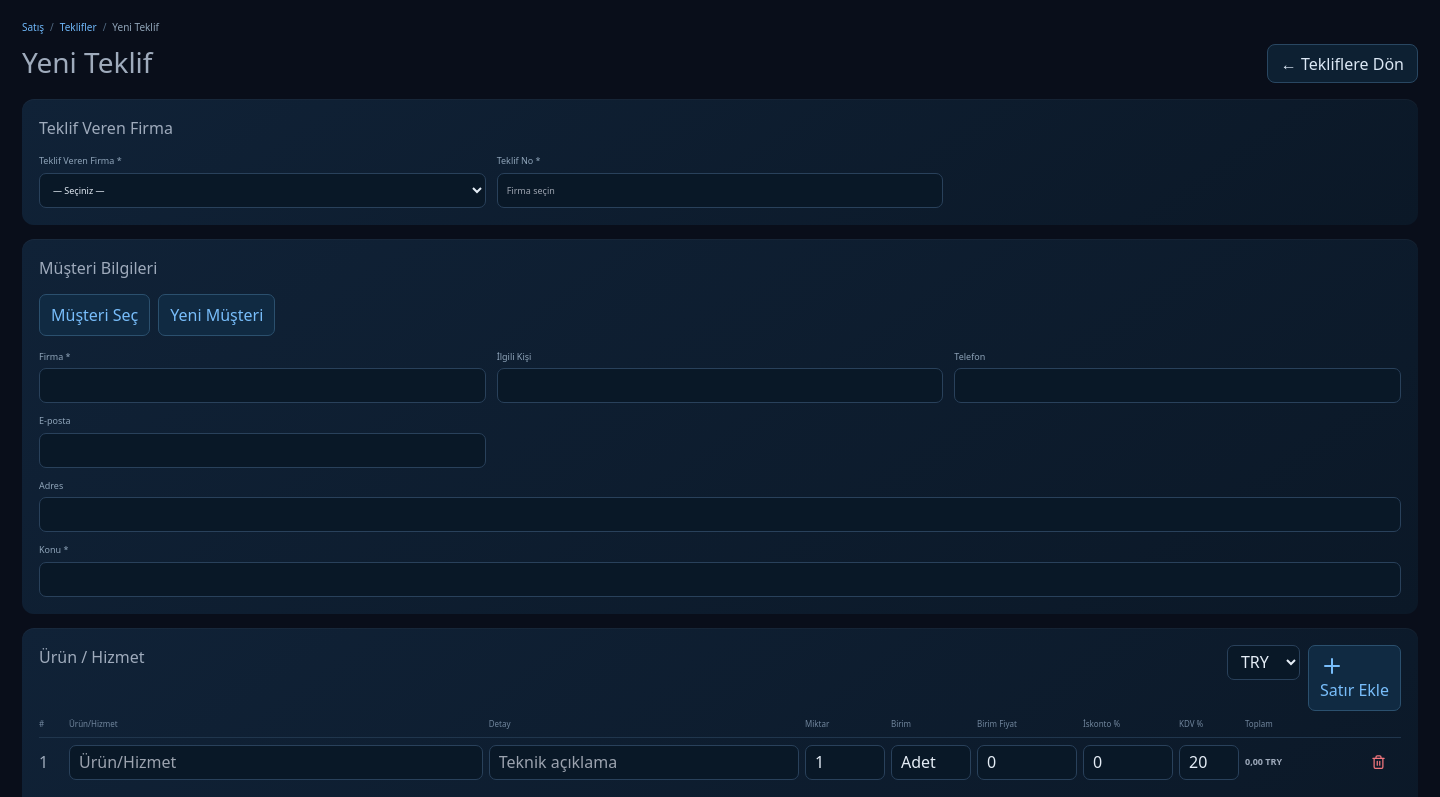
QuoteFormPage — save › translates a duplicate quote_no (unique-violation) error into a plain Turkish message
The width and height of the screenshot is (1440, 797).
Select "Dayan Dişli & Profil Taşlama" in the dropdown labelled "Teklif Veren Firma *" at (262,190), box 39,172 -> 486,208
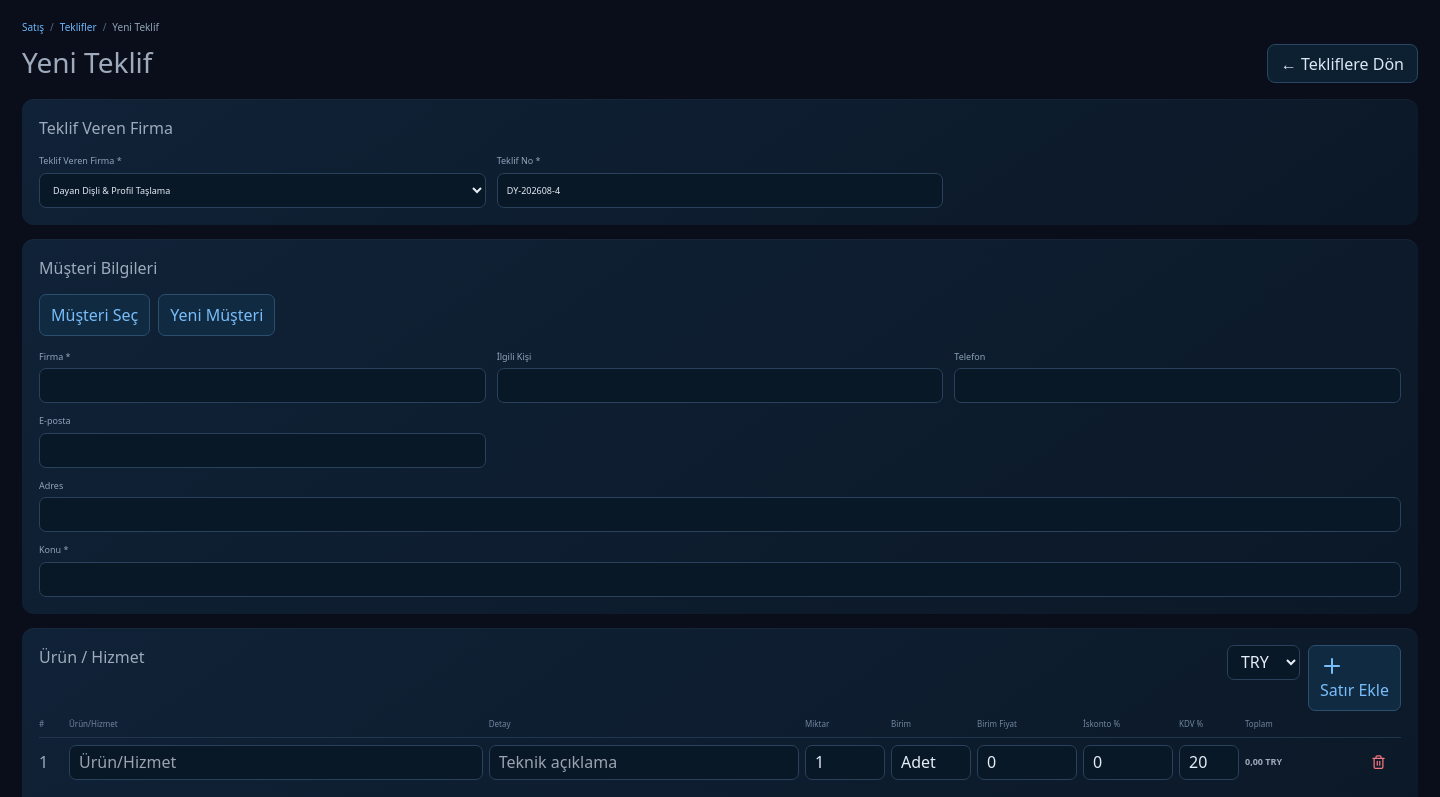
expect the field showing "DY-202608-4" is shown: met, box 497,172 -> 943,208
Click the button "Yeni Müşteri" at (217,314), box 158,294 -> 275,336
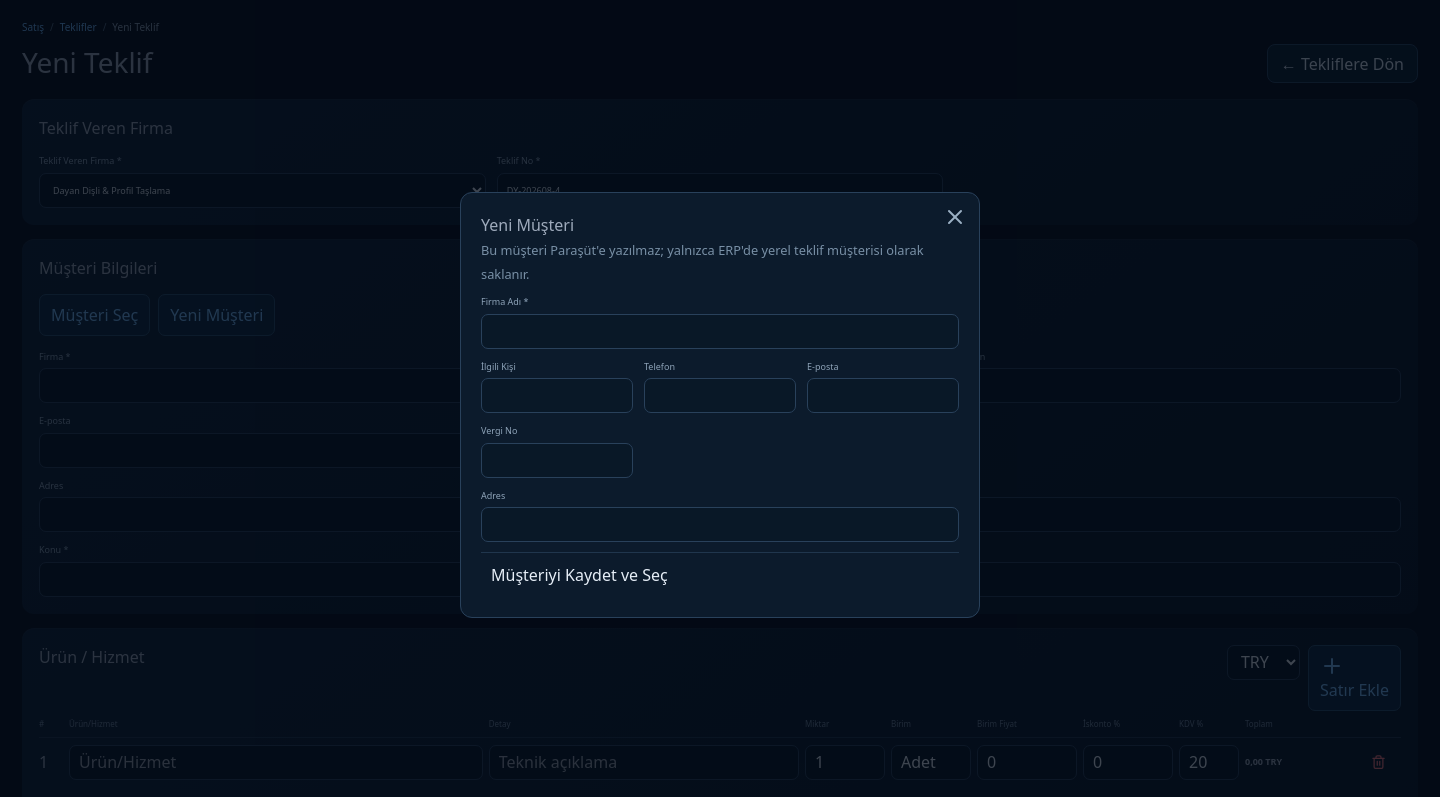
Type "Yeni Firma" into the field labelled "Firma Adı *" at (720,331), box 481,314 -> 959,348
Click the button "Müşteriyi Kaydet ve Seç" at (579,575), box 481,552 -> 959,597
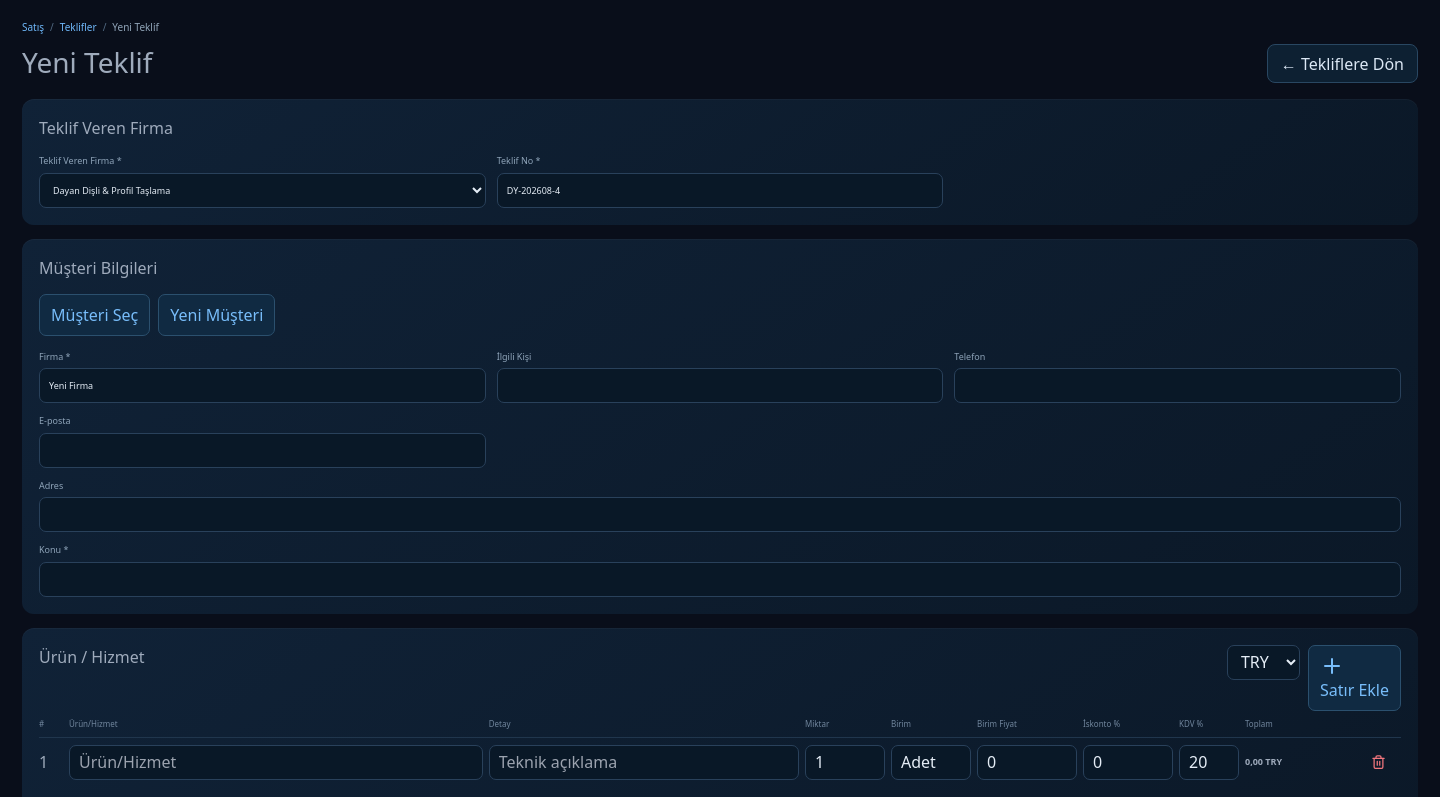
expect the field showing "Yeni Firma" is shown: met, box 39,368 -> 486,403
Type "Test Konu" into the field labelled "Konu *" at (720,579), box 39,562 -> 1401,596
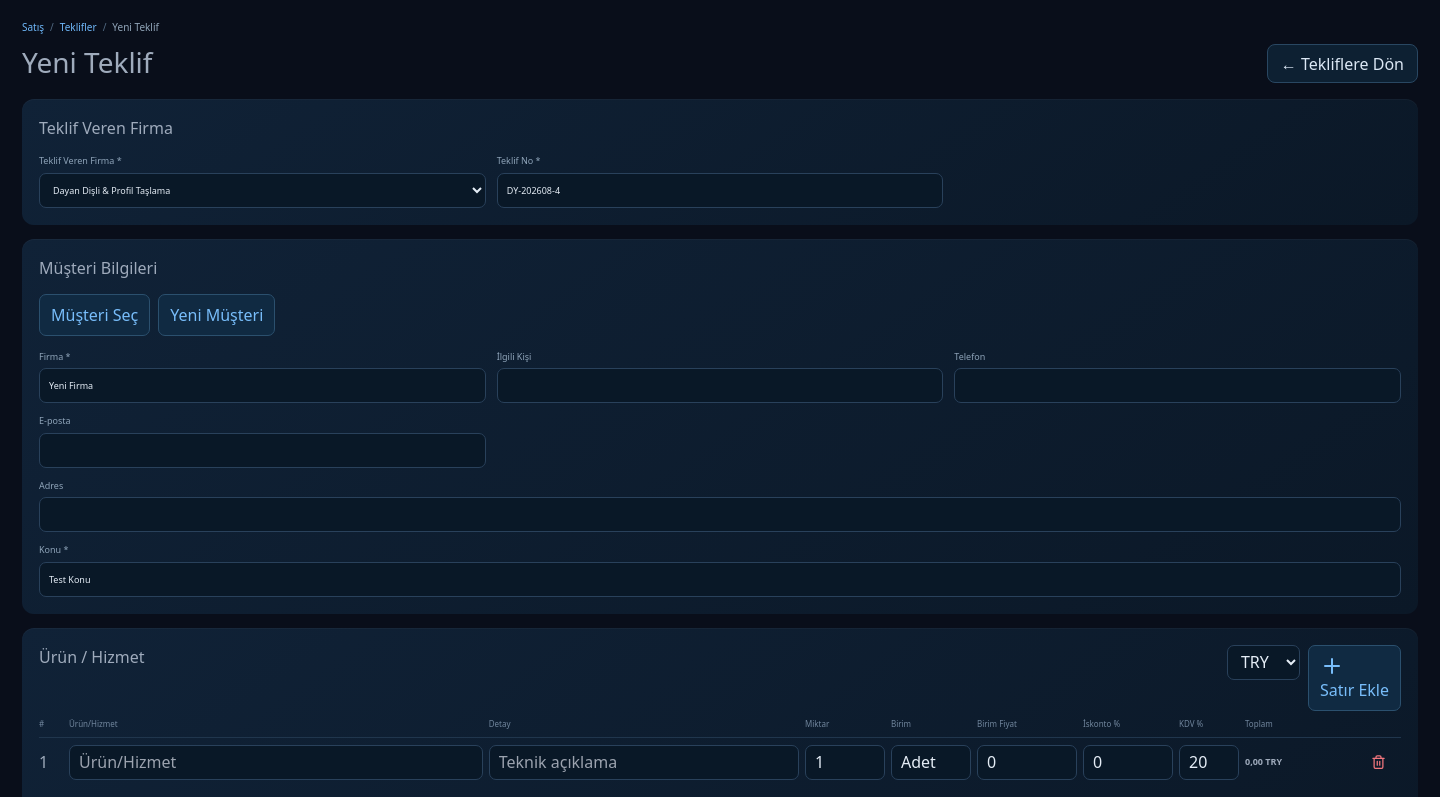
Type "Test Kalem" into the field with placeholder "Ürün/Hizmet" at (276,762), box 69,744 -> 483,780
(page scrolled)
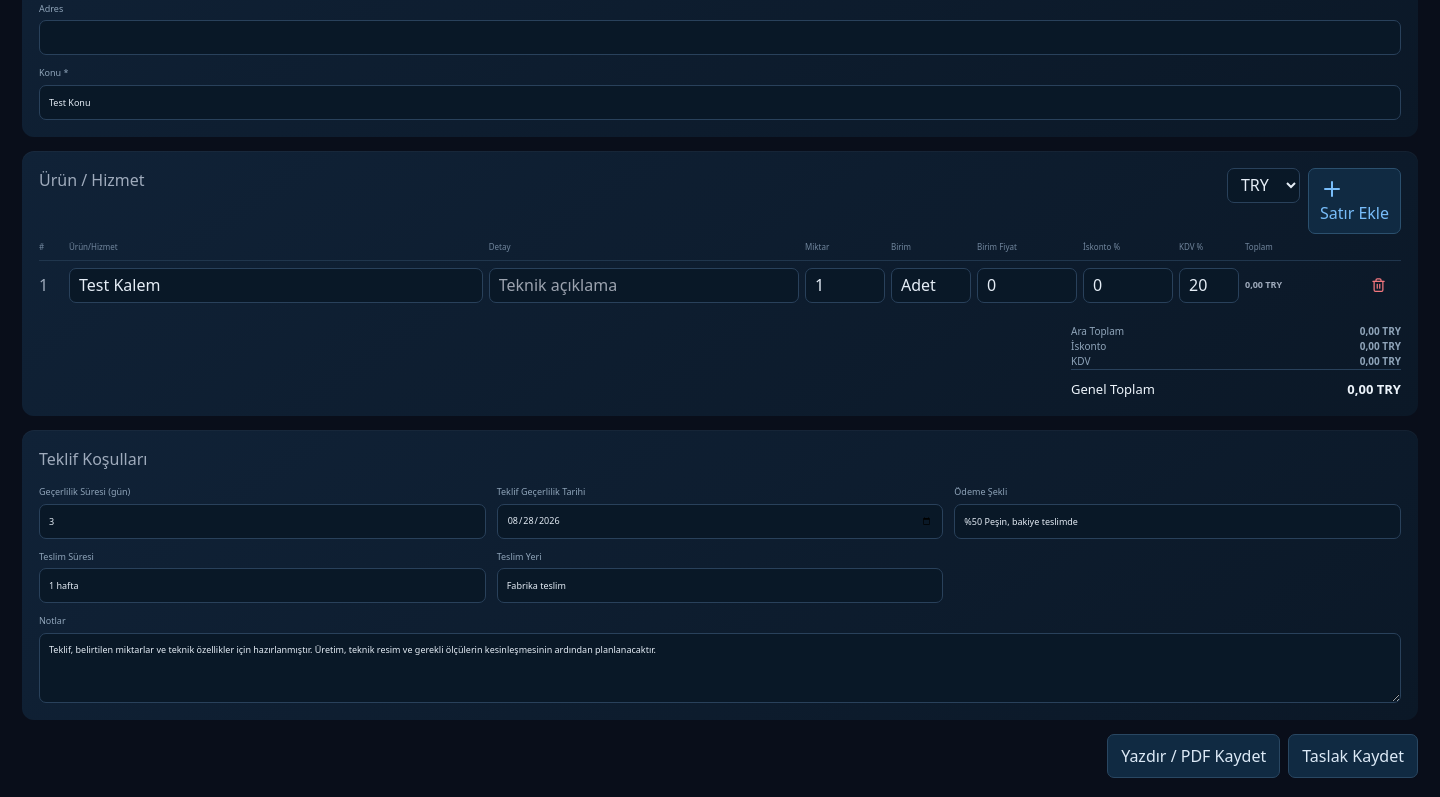
Click the button "Taslak Kaydet" at (1353,756), box 1288,734 -> 1418,778
(page scrolled)
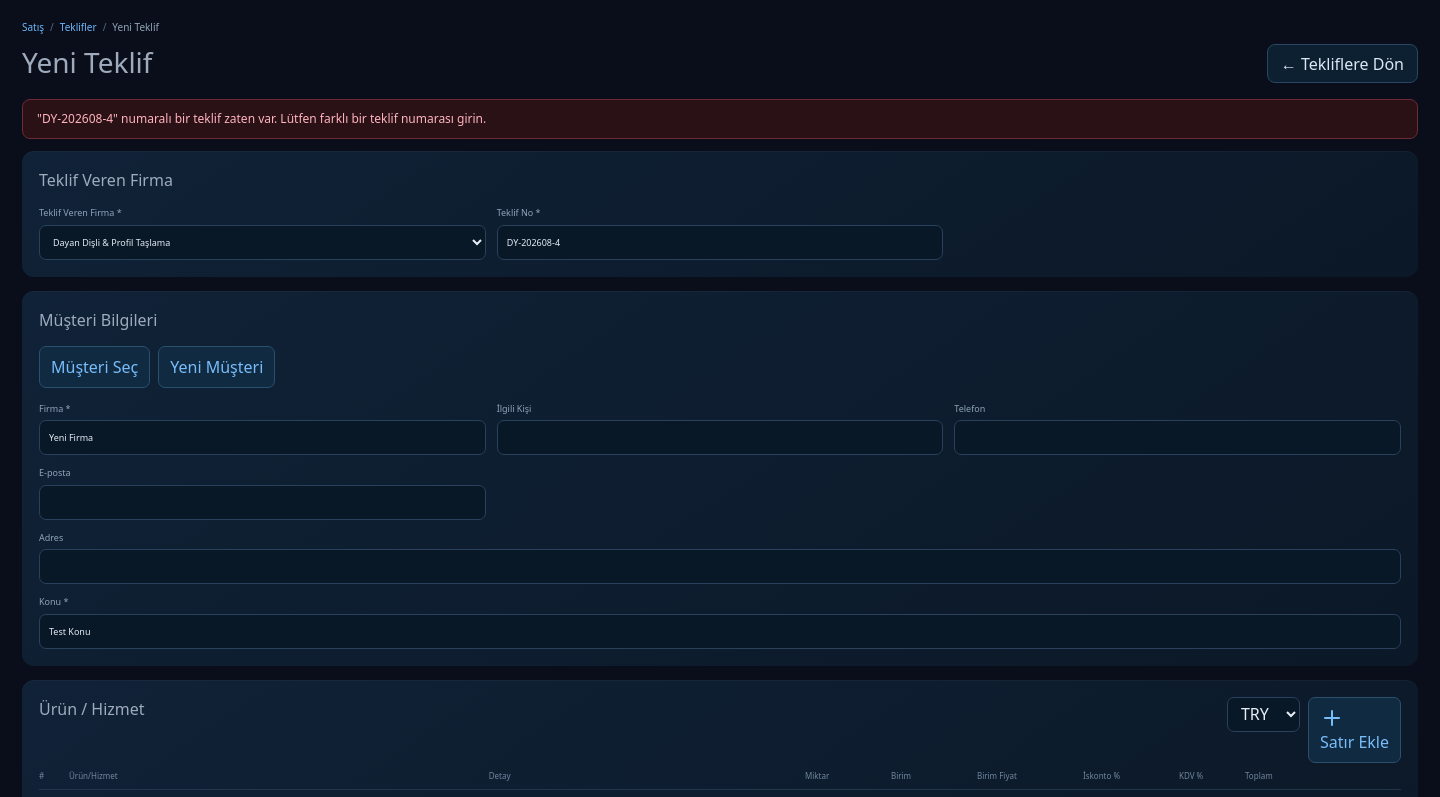
expect the text "numaralı bir teklif zaten var" is shown: met, box 37,110 -> 486,127
